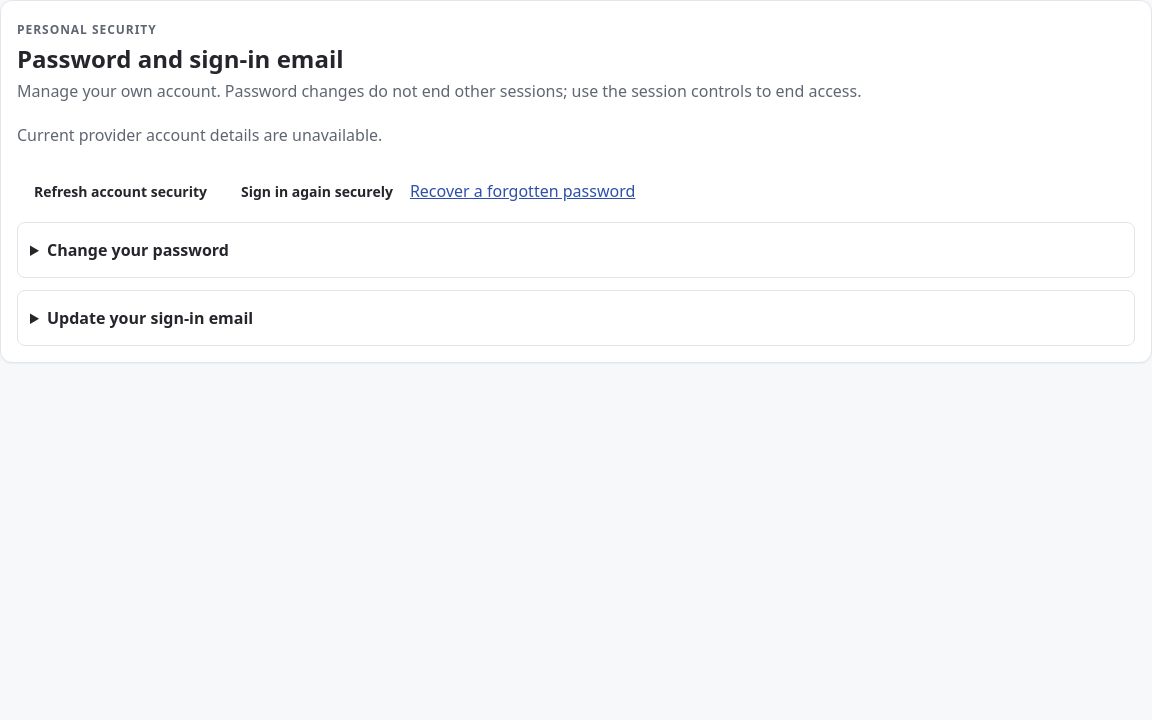
Test: personal password and email controls › does not display a change response from another account
Click the heading "Change your password" at (138, 250), box [47,239,229,261]
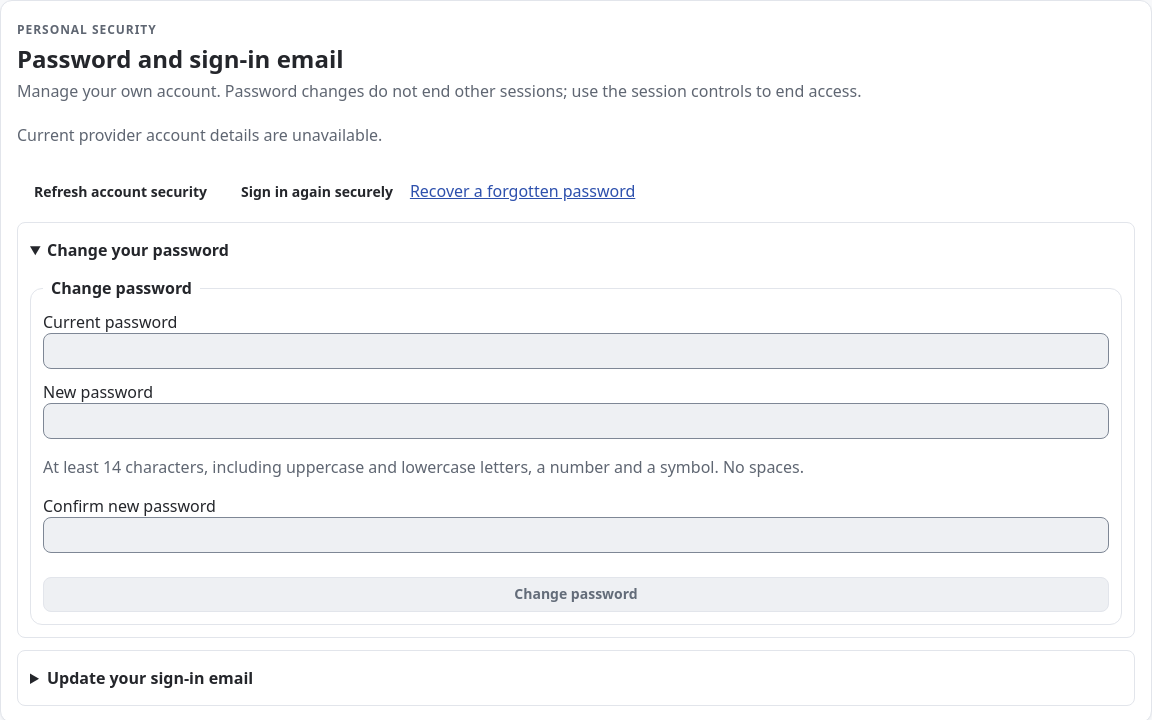
Click the heading "Update your sign-in email" at (150, 678), box [47,667,253,689]
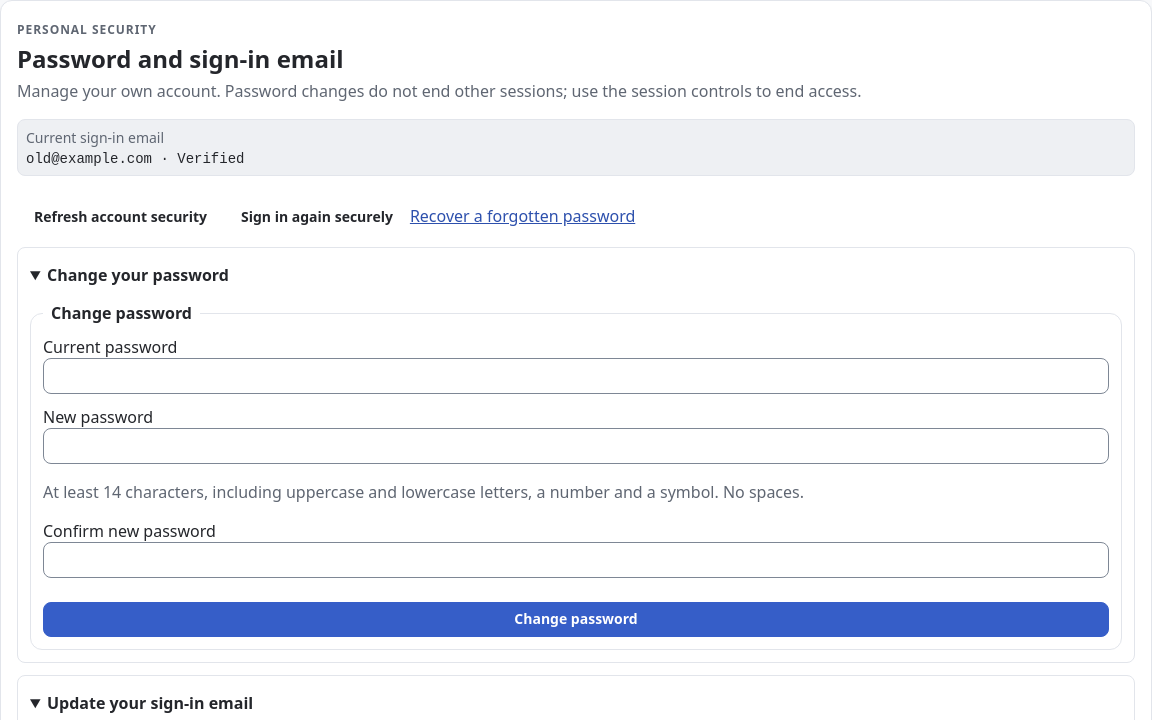
Check: the button "Change password" is enabled, box [43,602,1109,637]
Type "Synthetic-old-Password1!" into the password field labelled "Current password" at (576, 376), box [43,358,1109,394]
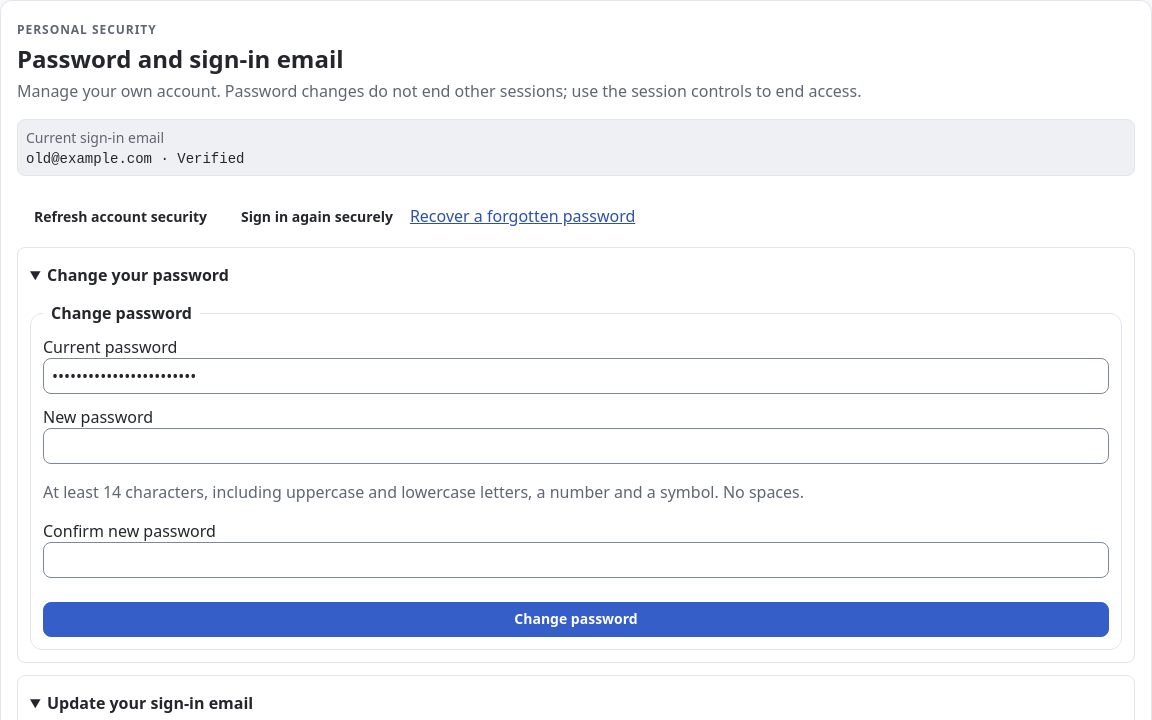
Type "Synthetic-new-Password2!" into the password field labelled "New password" at (576, 446), box [43,428,1109,464]
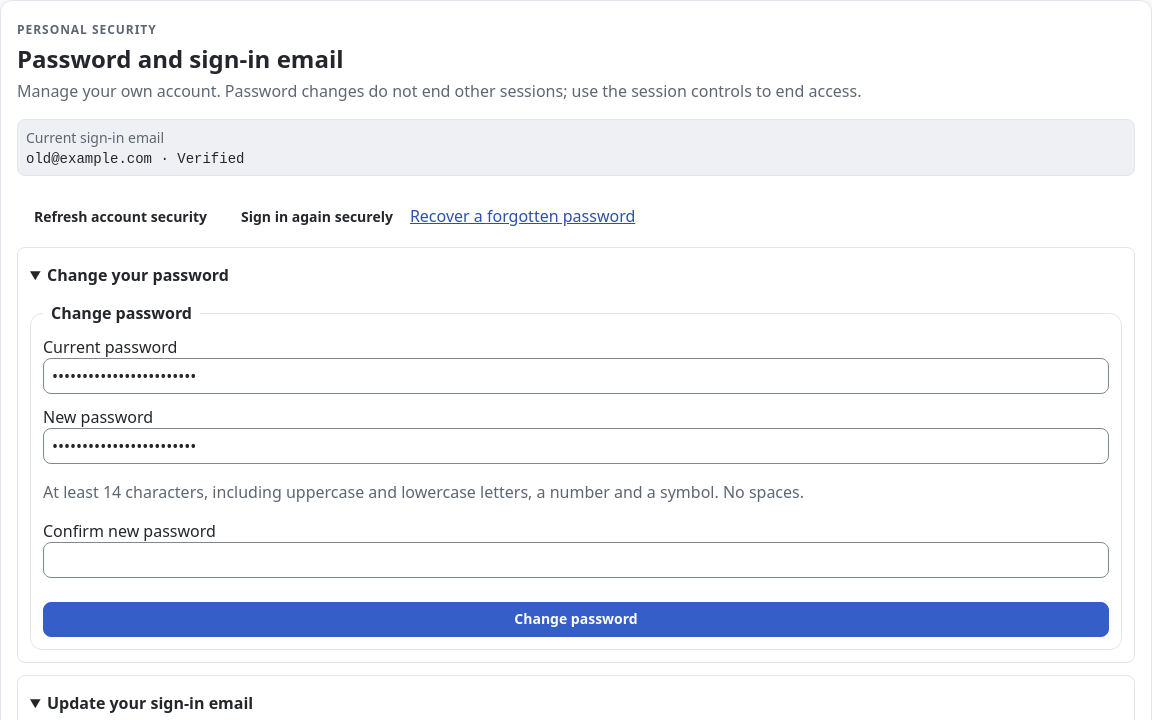
Type "Synthetic-new-Password2!" into the password field labelled "Confirm new password" at (576, 560), box [43,542,1109,578]
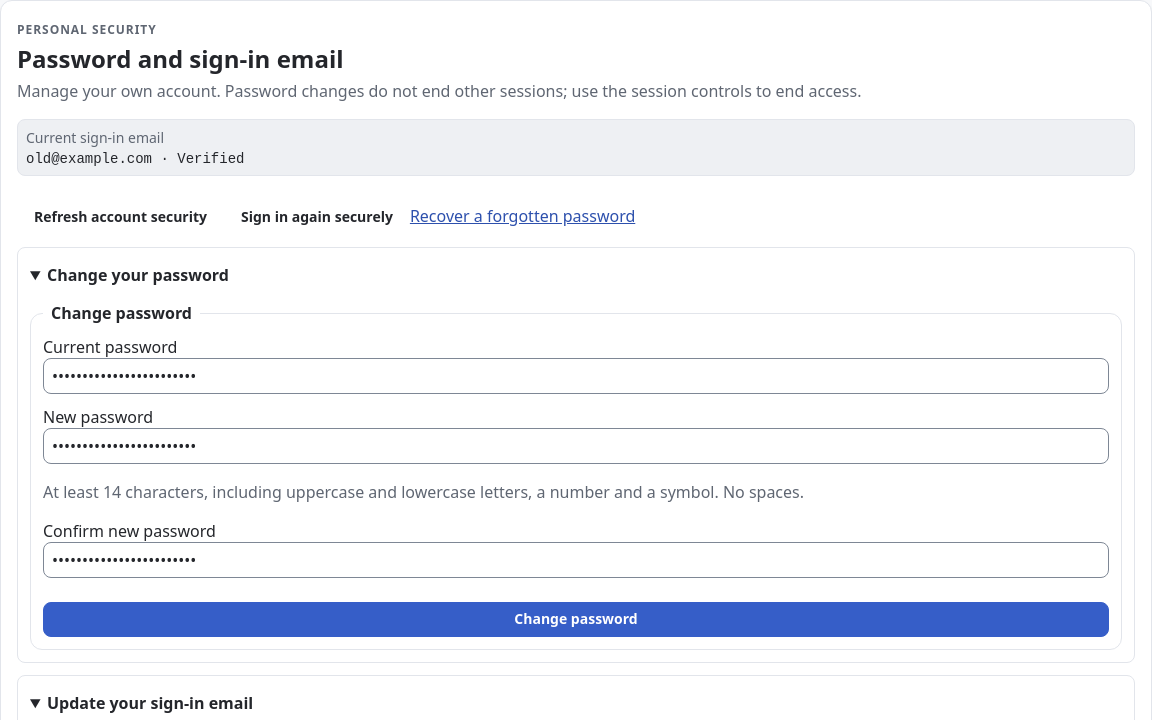
Click the button "Change password" at (576, 620), box [43,602,1109,637]
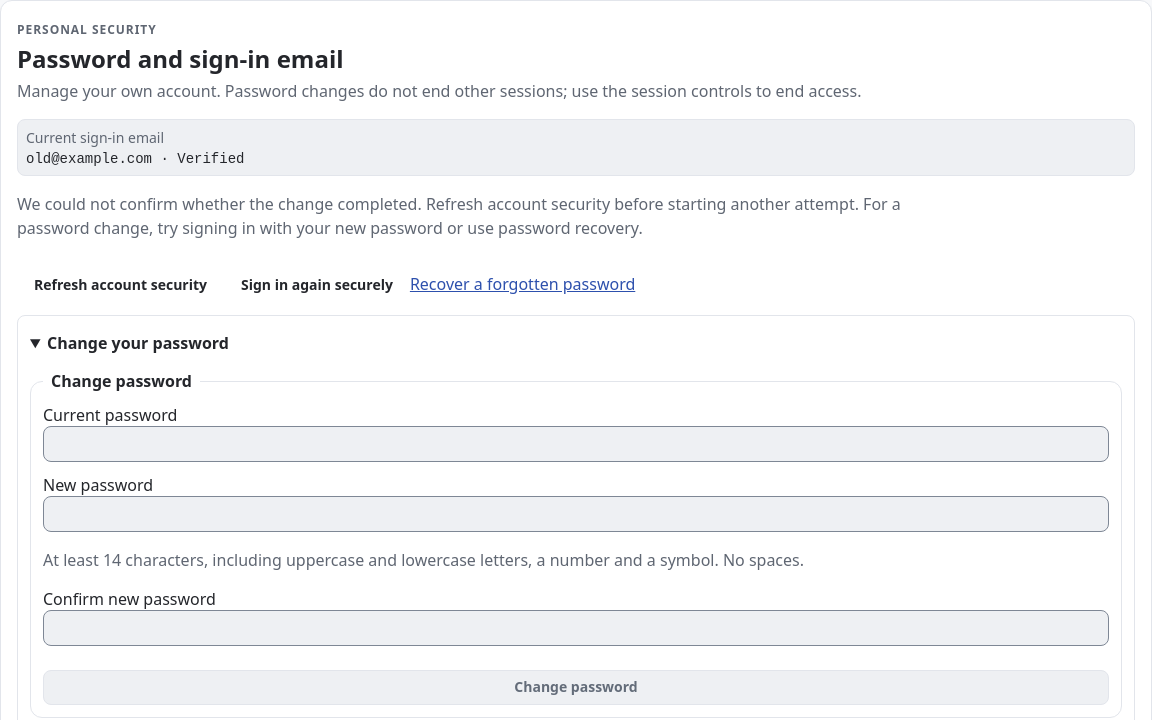
Check: the text "We could not confirm whether the change completed" is shown, box [17,193,901,239]
